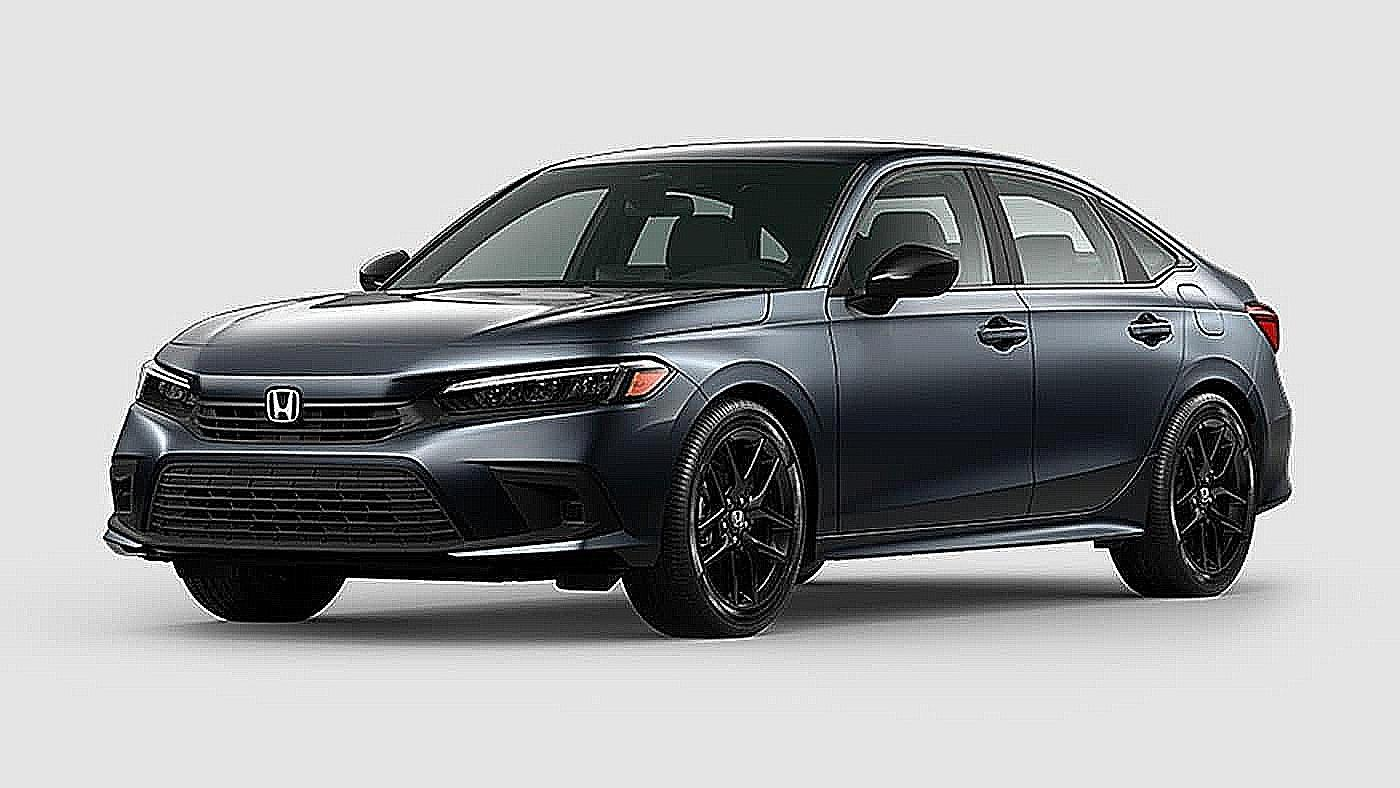Car hood: (146, 281, 773, 378)
Fender - -F-L-: (648, 285, 848, 576)
Fender - -R-L-: (1134, 251, 1264, 461)
Front bumper: (104, 353, 711, 598)
Headlight - -L-: (425, 355, 678, 422), (1241, 296, 1280, 356)
Headlight - -R-: (134, 356, 203, 421)
Passenger-s door - -F-L-: (823, 125, 1042, 569)
Passenger-s door - -R-L-: (973, 124, 1190, 572)
Rear bumper: (1251, 414, 1304, 517)
Side bumper - -L-: (820, 506, 1151, 588)
Side mirror - -L-: (845, 243, 959, 318)
Side mirror - -R-: (355, 245, 409, 297)
